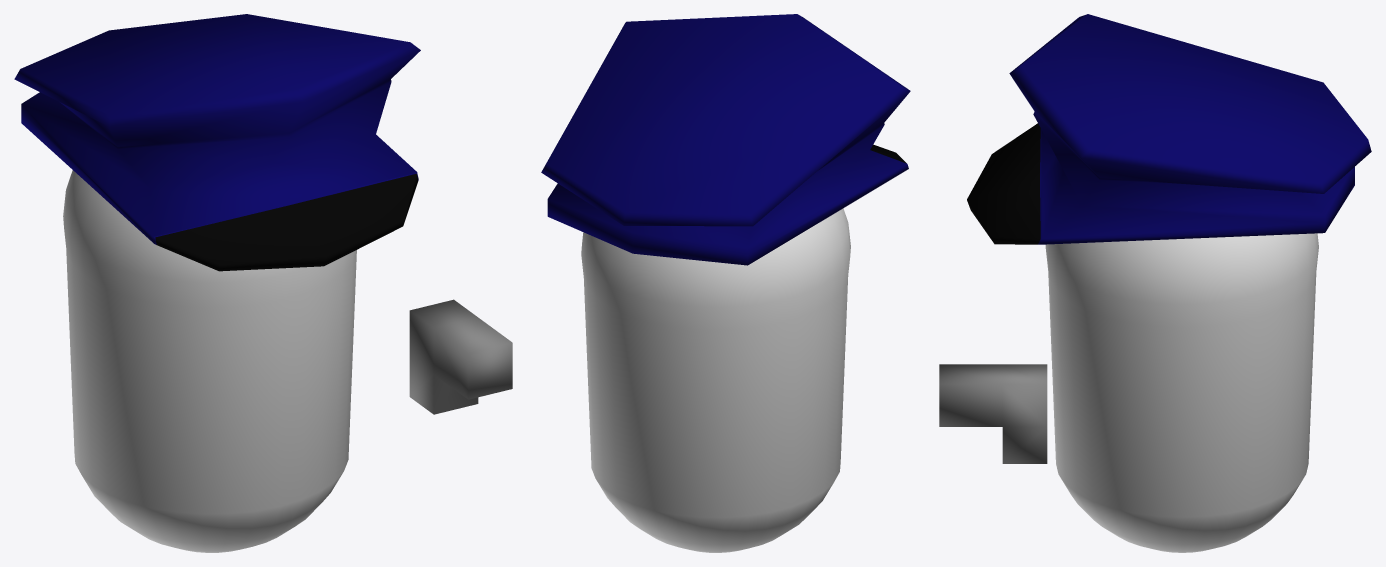
File: CopModel.fbx
3 renders of one model, left to right at view 1: azimuth 30°, elevation 25°; view 2: azimuth 150°, elevation 25°; view 3: azimuth 270°, elevation 25°, orthographic. The views are drawn at different scales.
Visible parts, largest first — view 1: Body, CopHat, CopGun; view 2: Body, CopHat; view 3: Body, CopHat, CopGun.
Boxes of the visible parts, x1,y1,x2,y2 form: Body: [63, 170, 356, 552]; CopHat: [14, 14, 420, 271]; CopGun: [409, 299, 512, 414]; Body: [581, 208, 850, 552]; CopHat: [541, 14, 910, 265]; Body: [1045, 233, 1318, 552]; CopHat: [967, 14, 1371, 244]; CopGun: [939, 364, 1047, 463].
Bounding box in the file's own units: 243 × 366 × 303.
